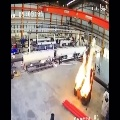fire: (75, 38, 95, 98)
